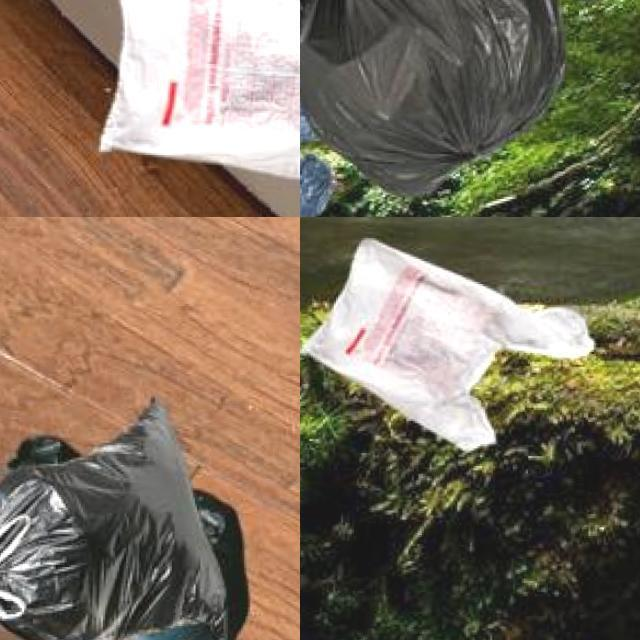waste: (300, 239, 592, 445), (0, 401, 238, 640), (300, 0, 562, 187), (95, 0, 300, 194), (300, 163, 339, 217), (300, 103, 313, 153)
